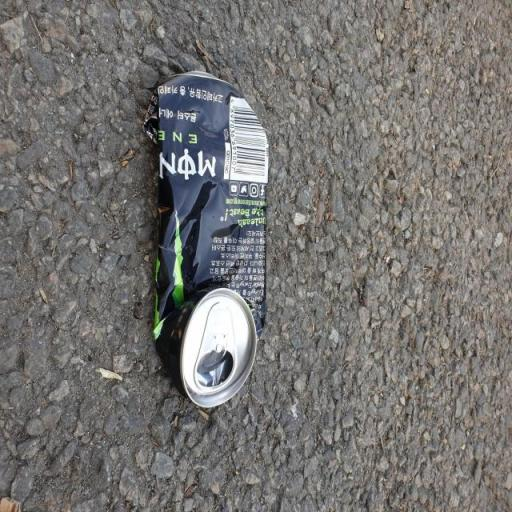metal: (131, 42, 276, 436)
